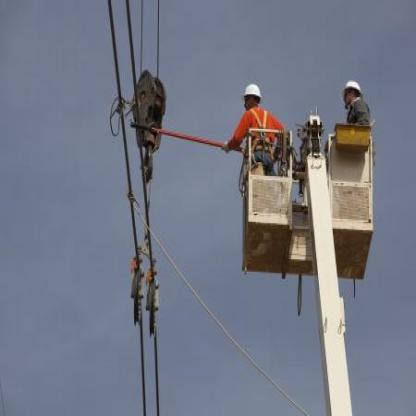helmet: (339, 76, 368, 112), (242, 80, 264, 112)
